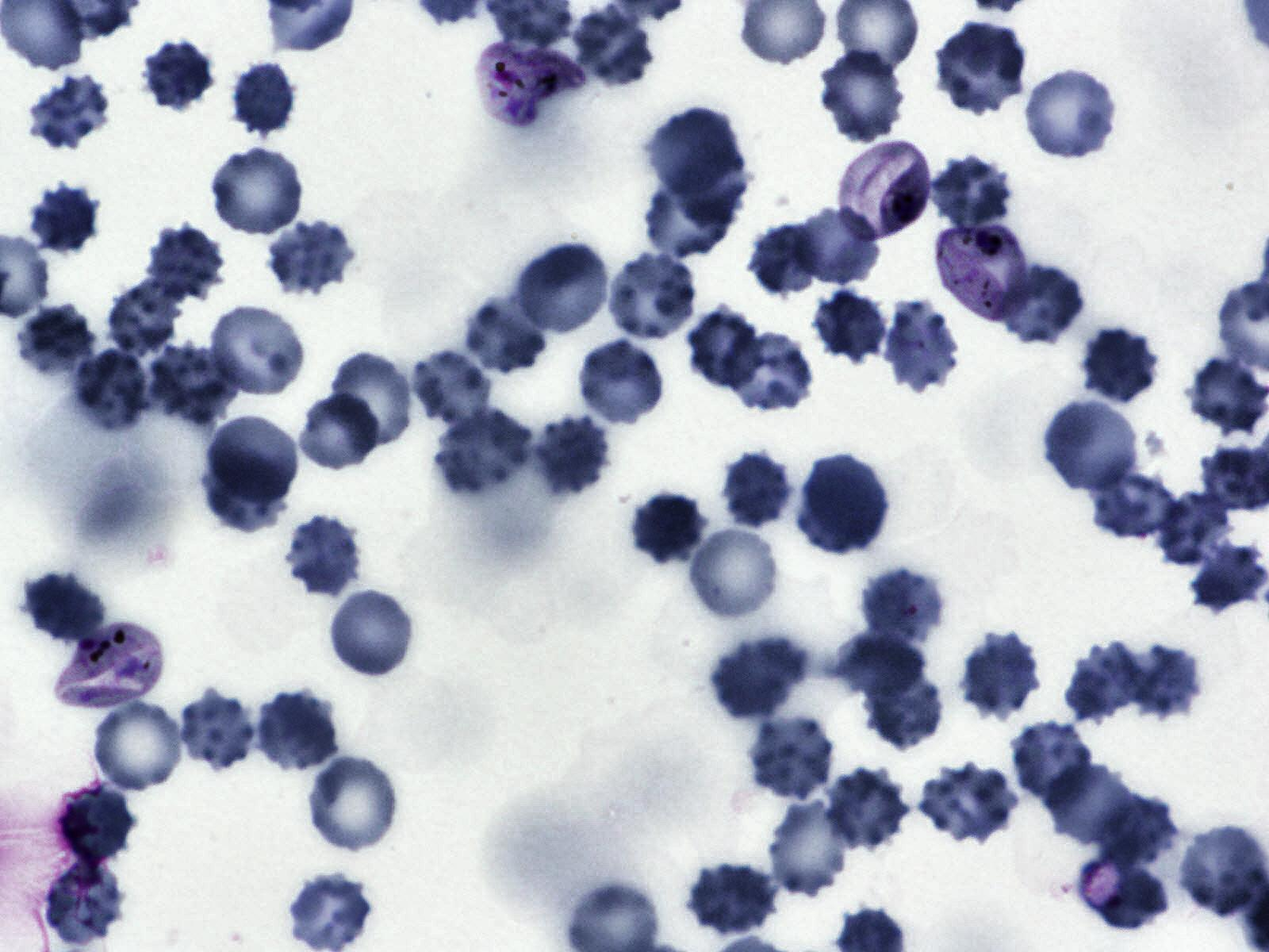Infected: (933, 217, 1035, 322), (52, 624, 168, 716), (834, 140, 934, 241), (477, 42, 585, 127)
Uninfected: (574, 337, 669, 429), (1043, 401, 1137, 492), (512, 244, 608, 332), (431, 409, 527, 497), (707, 636, 805, 722), (935, 22, 1025, 115), (917, 761, 1019, 843), (653, 103, 743, 195), (200, 443, 291, 532), (212, 307, 304, 395), (746, 713, 837, 800), (1183, 825, 1268, 918), (212, 149, 302, 236), (646, 176, 736, 263), (768, 797, 846, 897), (94, 701, 180, 791), (207, 417, 298, 502), (311, 757, 395, 849), (1026, 71, 1114, 158), (1010, 720, 1097, 807), (331, 353, 409, 450), (691, 529, 776, 618), (997, 262, 1084, 348), (823, 767, 910, 852), (1045, 762, 1133, 846), (821, 47, 901, 139), (569, 6, 656, 90), (611, 253, 696, 338), (253, 690, 339, 774), (806, 455, 886, 545), (152, 344, 242, 424), (959, 633, 1041, 720), (723, 332, 811, 413), (532, 411, 615, 496), (795, 204, 880, 286), (882, 300, 957, 392), (1075, 853, 1167, 928), (1186, 352, 1268, 436), (287, 870, 372, 951), (408, 350, 492, 431), (268, 217, 356, 294), (1077, 326, 1161, 406), (331, 592, 409, 678), (44, 861, 122, 945), (459, 298, 545, 374), (178, 689, 259, 769), (1065, 642, 1146, 722), (859, 566, 943, 643), (837, 630, 926, 702), (687, 866, 777, 937), (865, 666, 941, 750), (1094, 794, 1179, 869), (1091, 470, 1179, 541), (933, 155, 1014, 232), (684, 309, 761, 389), (61, 784, 136, 866), (301, 392, 381, 468), (797, 472, 872, 553), (27, 181, 103, 259), (811, 289, 889, 365), (1129, 643, 1205, 721), (147, 222, 226, 297), (1187, 539, 1266, 614), (79, 348, 149, 432), (30, 75, 109, 149), (287, 516, 360, 596), (1157, 490, 1231, 568), (746, 227, 826, 299), (25, 573, 104, 642), (18, 305, 97, 374), (719, 451, 792, 524), (107, 282, 180, 355), (633, 493, 709, 563), (144, 39, 214, 112), (231, 61, 295, 137)
